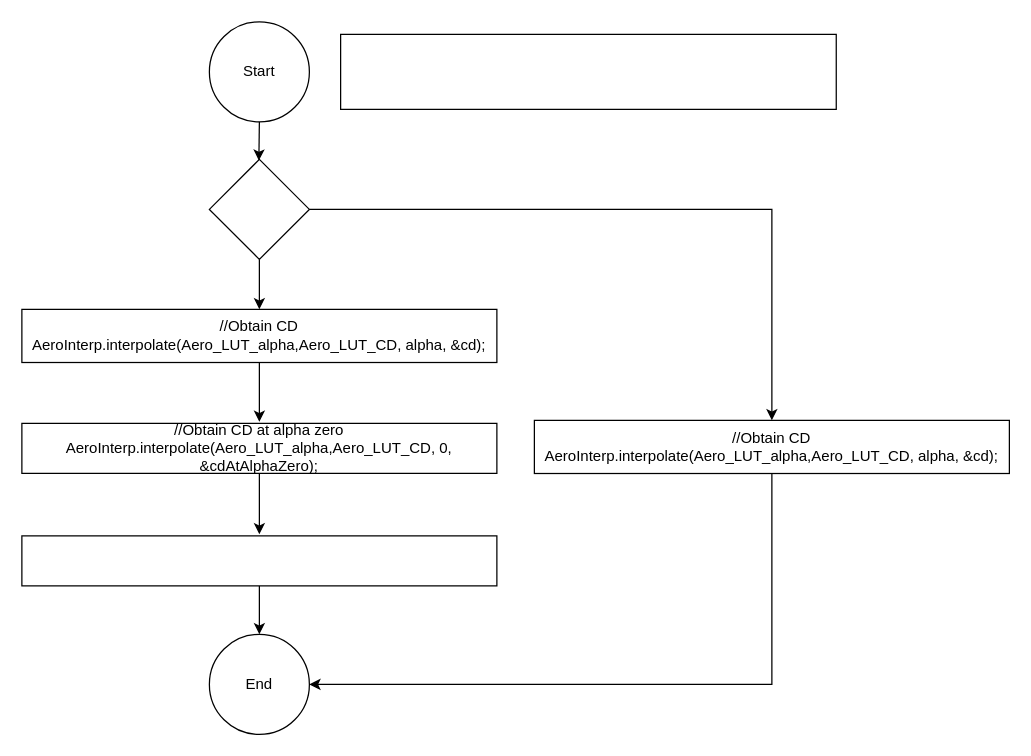
This 1031x756 diagram has some shape labels left out. Here are the shapes that lost their labels. From the top down, the box of each, then its label:
(339, 33, 836, 109): Lift_drag_model:: lookupCD()
(208, 158, 309, 259): Control surface?
(21, 535, 497, 586): //Subtract cd at alpha zero from CD to get CD cd=cd-cdAtAlphaZero;
